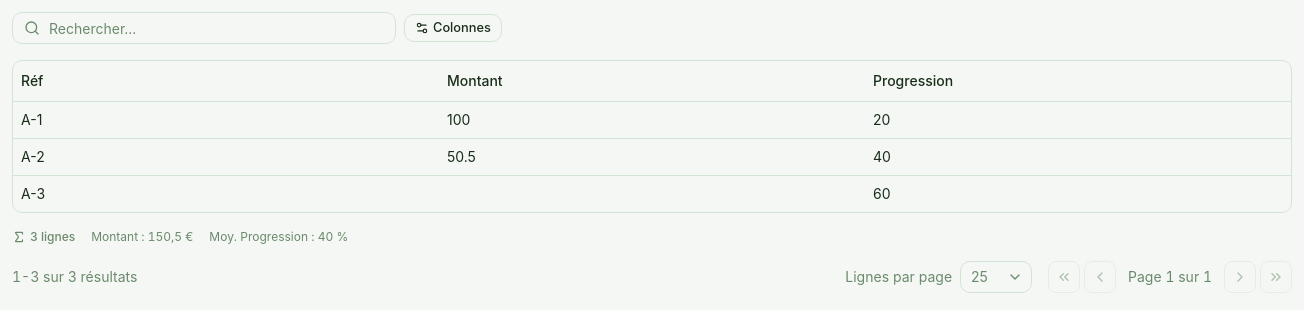
it: DataTableAggregateBar (via DataTable) › restreint les agrégats aux lignes filtrées par la recherche
This screenshot has width=1304, height=310.
Type "A-1" into the field labelled "Rechercher...". click: (204, 28)
box: [12,12,396,44]
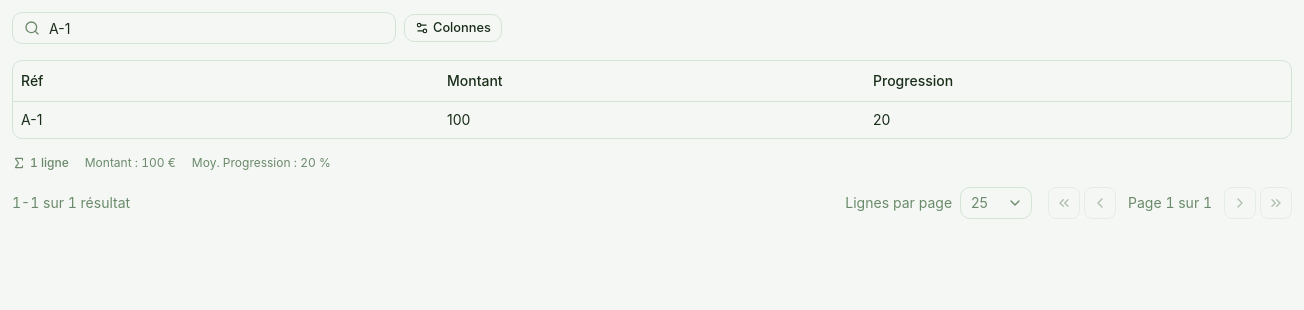
Expected: the element named "Agrégats des colonnes numériques" shows "1 ligne", [30,154,69,170]
